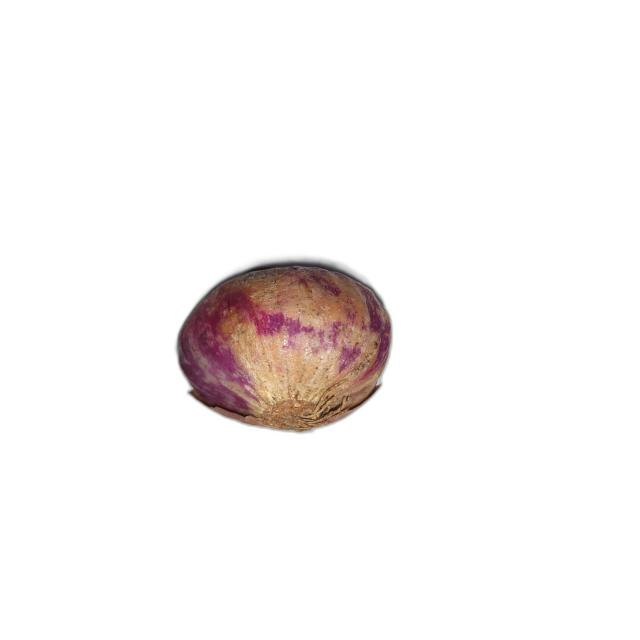onion: (173, 264, 394, 432)
